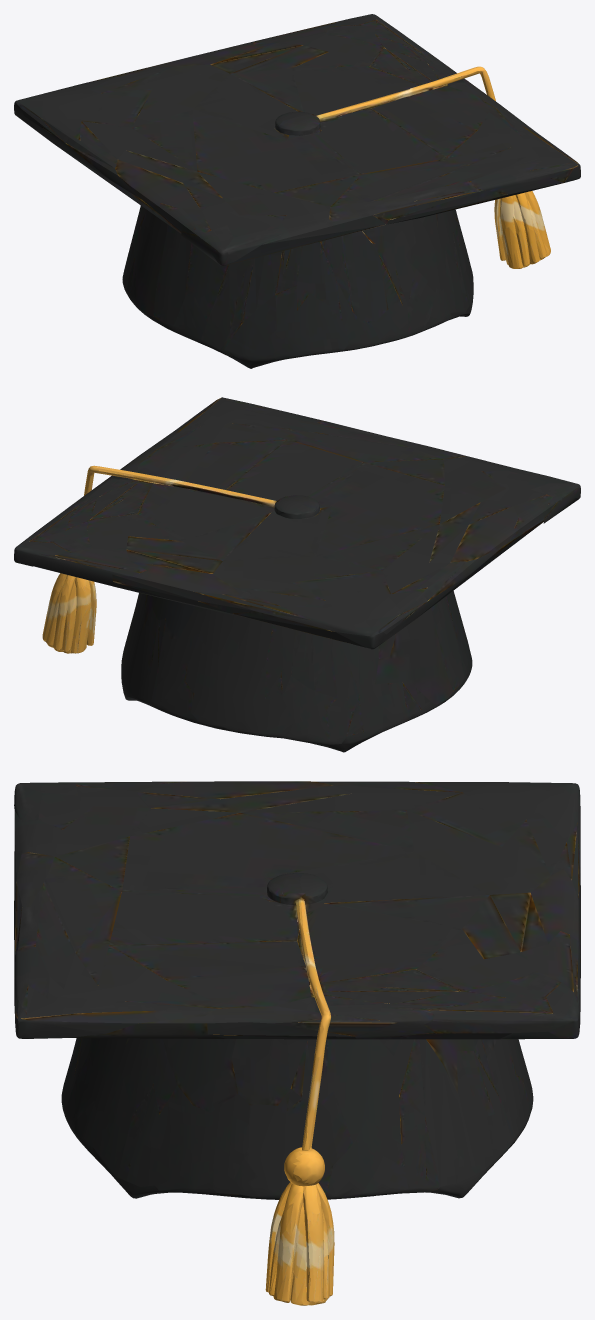
Rendered from hat_grad.glb.
The picture shows the model from 3 angles, top to bottom: view 1: azimuth 30°, elevation 25°; view 2: azimuth 150°, elevation 25°; view 3: azimuth 270°, elevation 25°; orthographic projection. The views are drawn at different scales.
Size of the model in its own units: 1.9 by 0.8476 by 1.6.
Materials: 1 (1 with a texture image).
